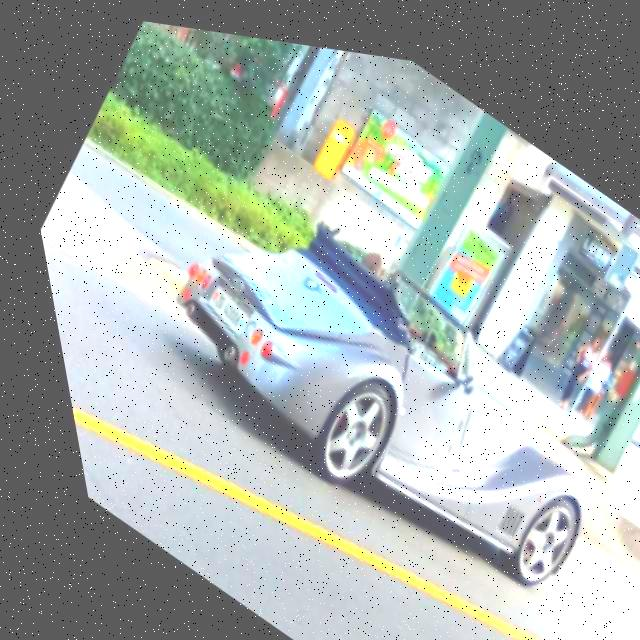license_plate: (190, 274, 248, 332)
